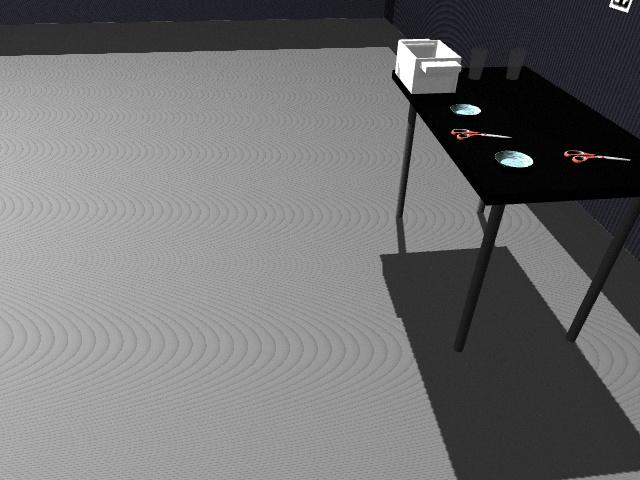cup: (506, 47, 527, 81), (468, 46, 488, 81)
plate: (494, 149, 536, 168), (450, 103, 483, 116)
scissors: (562, 149, 632, 164), (452, 129, 513, 141)
